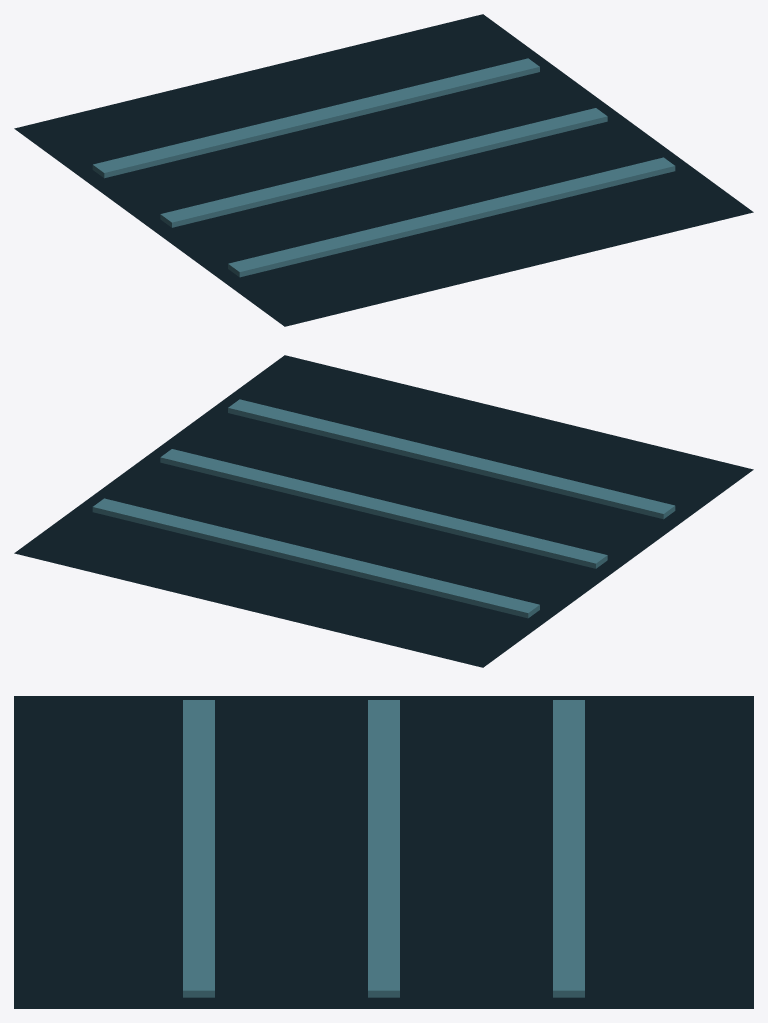
The model's file is wall_vent.obj.
3 views of the same model, one above another, from view 1: azimuth 30°, elevation 25°; view 2: azimuth 150°, elevation 25°; view 3: azimuth 270°, elevation 25° (orthographic). The views are drawn at different scales.
Bounding box in the file's own units: 0.28 × 0.006 × 0.28.
